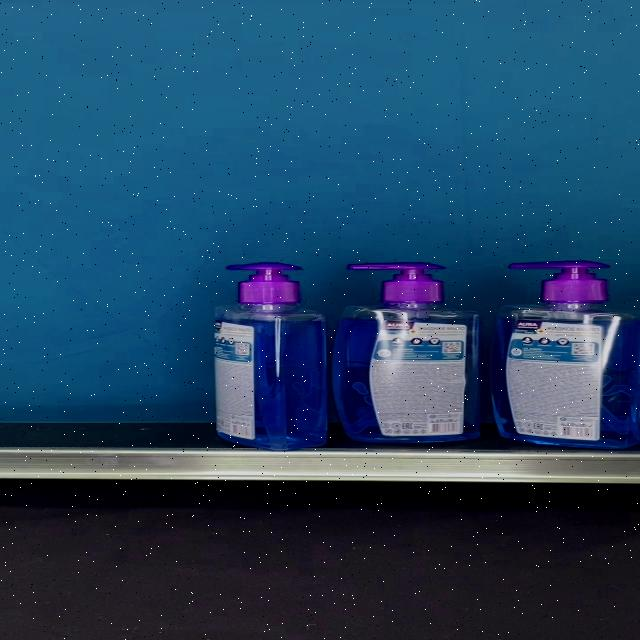Bottle: (490, 261, 640, 449), (335, 262, 481, 444), (216, 262, 327, 450)
Cap: (510, 261, 610, 303), (347, 262, 446, 304), (227, 262, 303, 304)
